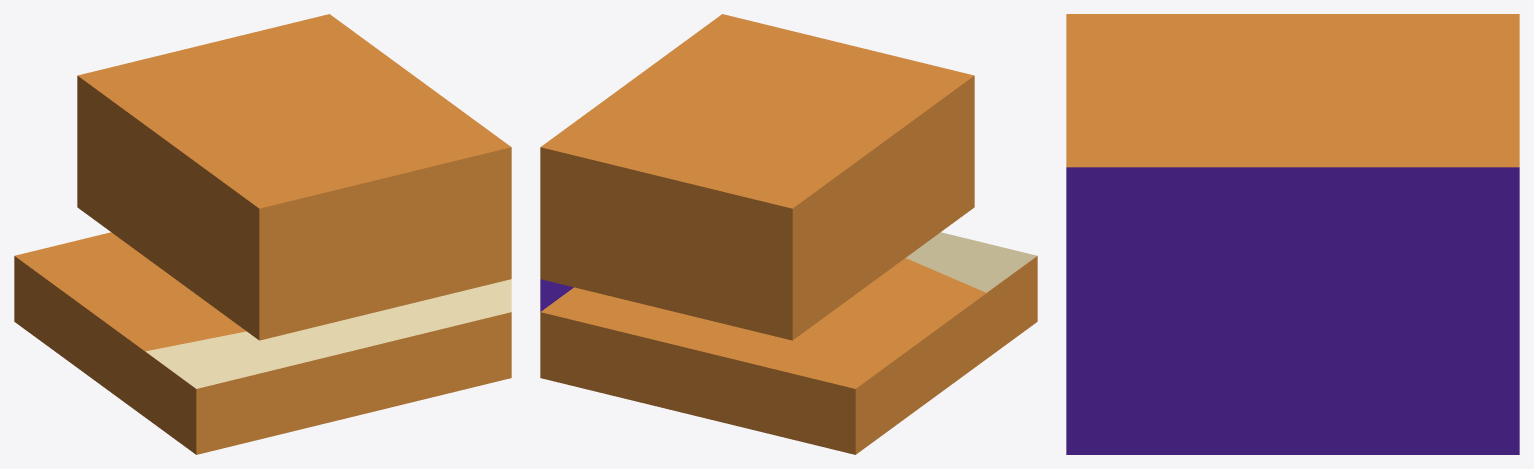
File: normal_disappear.glb
The picture shows the model from 3 angles, left to right: view 1: azimuth 30°, elevation 25°; view 2: azimuth 150°, elevation 25°; view 3: azimuth 270°, elevation 25°; orthographic projection. The views are drawn at different scales.
Parts seen in each view (by area): view 1: Cube, Cube.001, Plane.001; view 2: Cube, Cube.001, Plane.001, Plane; view 3: Cube, Cube.001, Plane.
Boxes of the visible parts, box(x1,y1,x2,y2) form: Cube: box(77, 14, 511, 340); Cube.001: box(14, 232, 511, 454); Plane.001: box(145, 279, 511, 388); Cube: box(540, 14, 974, 340); Cube.001: box(540, 256, 1037, 454); Plane.001: box(906, 232, 1037, 292); Plane: box(540, 279, 573, 311); Cube: box(1066, 14, 1519, 331); Cube.001: box(1066, 372, 1519, 454); Plane: box(1066, 331, 1519, 372).
Bounding box in the file's own units: 2 × 1.4 × 2.
